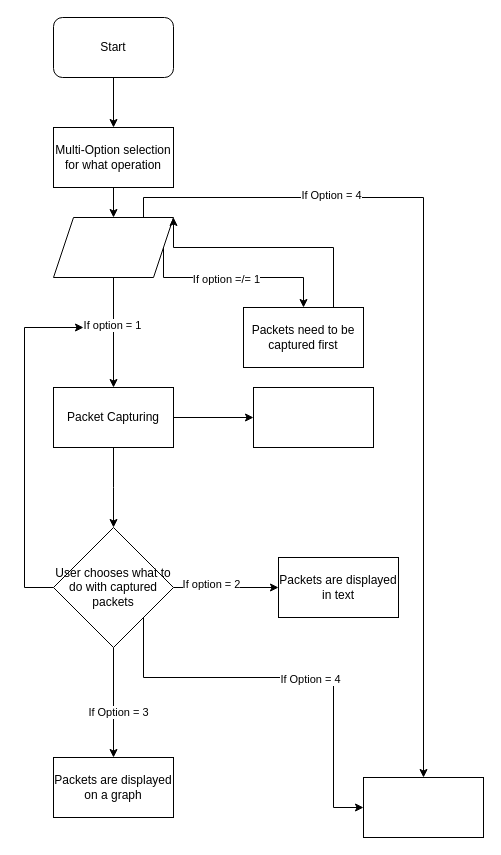
The diagram is 501 pixels wide and 855 high, and some of its shapes have lost their labels. Each missing label, with the centre of its shape:
"Application quits" goes at pixel 423 807.
"Packets are saved into a .csv" goes at pixel 313 417.
"User selects their option" goes at pixel 113 247.
